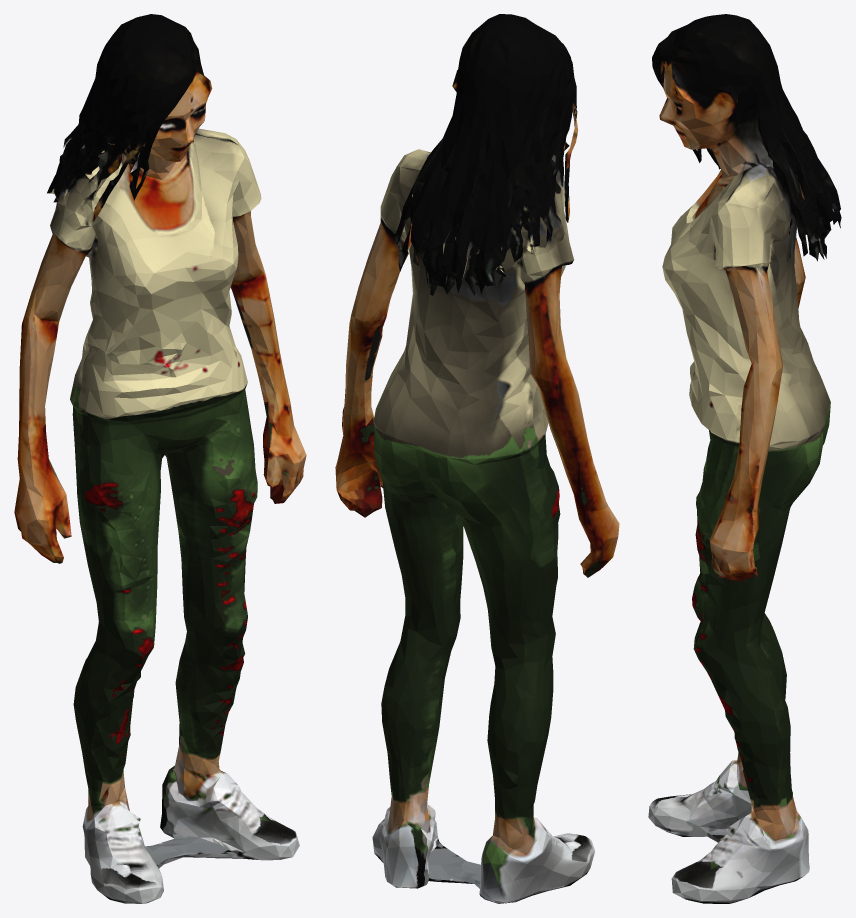
Rendered from girl_green.glb.
The picture shows the model from 3 angles, left to right: view 1: azimuth 30°, elevation 25°; view 2: azimuth 150°, elevation 25°; view 3: azimuth 270°, elevation 25°; orthographic projection. The views are drawn at different scales.
Visible parts, largest first — view 1: temp_mesh.ply; view 2: temp_mesh.ply; view 3: temp_mesh.ply.
Boxes of the visible parts, x1=… form: temp_mesh.ply: x1=14, y1=14, x2=306, y2=903; temp_mesh.ply: x1=335, y1=14, x2=619, y2=903; temp_mesh.ply: x1=648, y1=14, x2=841, y2=903.
Bounding box in the file's own units: 0.6748 × 1.98 × 0.4177.
1 material, 1 textured.
